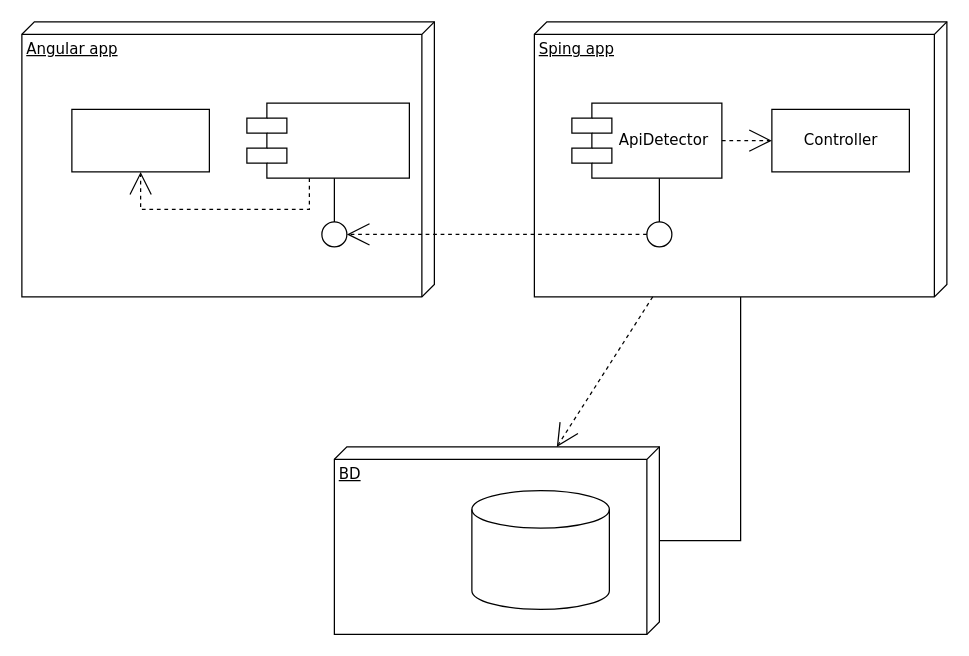
This 969x656 diagram has some shape labels left out. The shapes that lost their labels are listed below. From the top down, each one's centre as x and y in pixels, then its label:
the point at 140,140: Service
the point at 327,140: ClienteDetector
